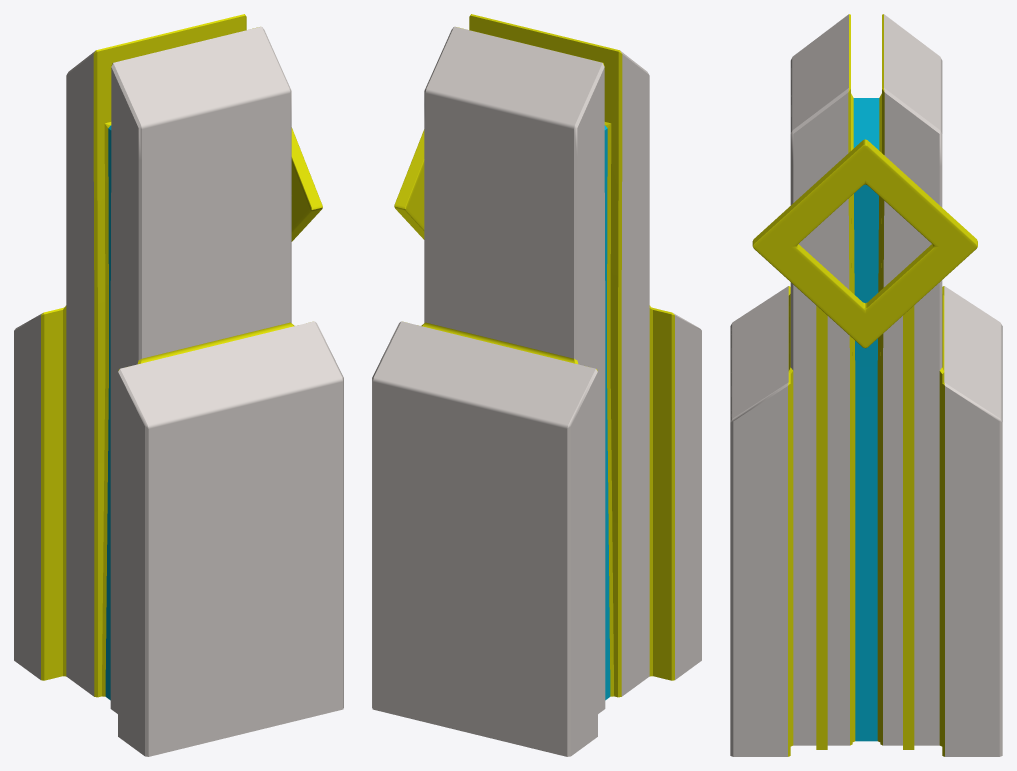
Rendered from tower_big.fbx.
3 views of the same model, side by side, from view 1: azimuth 30°, elevation 25°; view 2: azimuth 150°, elevation 25°; view 3: azimuth 270°, elevation 25° (orthographic).
Visible parts, largest first — view 1: tower_big; view 2: tower_big; view 3: tower_big.
Part boxes in pixels (left/top/right/bottom): tower_big: left=14, top=14, right=343, bottom=756; tower_big: left=372, top=14, right=701, bottom=756; tower_big: left=730, top=14, right=1002, bottom=756.
Bounding box in the file's own units: 2838 × 8805 × 3307.
